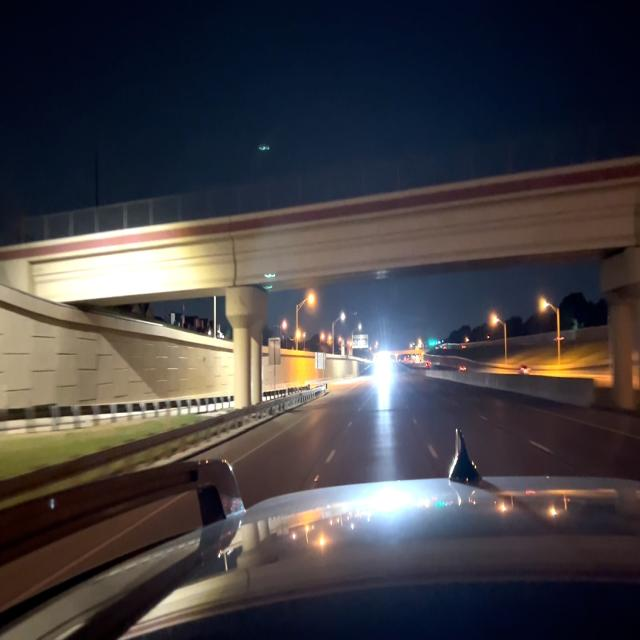back-of-sign: (268, 337, 282, 366)
